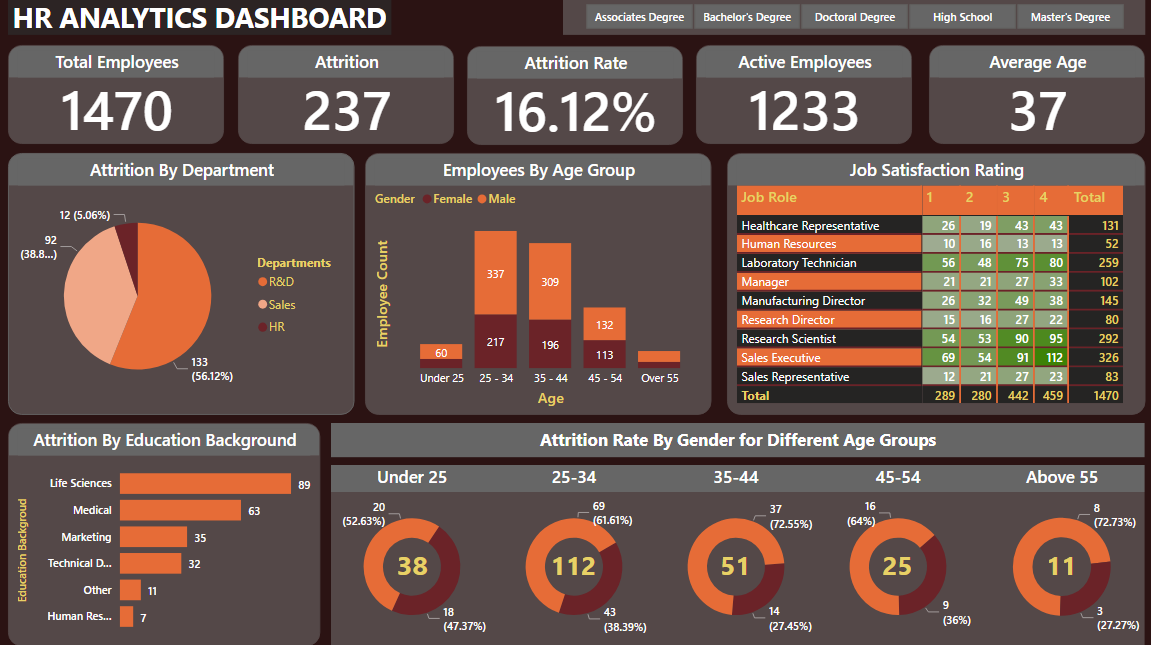

The dashboard page shown, as its layout file describes it:
{"tool":"powerbi","page":{"name":"Page 1","canvas":[1280,720],"ordinal":0},"visuals":[{"type":"card","title":"Total Employees","fields":{"Values":["Sum(HR data.Employee Count)"]},"box":[9.6,52.5,239.9,110.3],"z":0},{"type":"card","title":"Attrition","fields":{"Values":["Sum(HR data.Attrition Count)"]},"box":[265.6,52.2,240,110],"z":1000},{"type":"card","title":"Attrition Rate","fields":{"Values":["HR data.Attrition Rate"]},"box":[520,53.3,240,110],"z":2000},{"type":"card","title":"Active Employees","fields":{"Values":["HR data.Active Employees"]},"box":[774.4,52.2,240,110],"z":3000},{"type":"card","title":"Average Age","fields":{"Values":["Avg(HR data.Age)"]},"box":[1033.6,52.5,239.9,110.3],"z":4000},{"type":"pieChart","title":"Attrition By Department","fields":{"Category":["HR data.Department"],"Y":["Sum(HR data.Attrition Count)"]},"box":[9.6,172.5,384.5,291.3],"z":5000},{"type":"columnChart","title":"Employees By Age Group","fields":{"Category":["HR data.CF_age band"],"Y":["Sum(HR data.Employee Count)"],"Series":["HR data.Gender"]},"box":[407,172.5,384.5,291.3],"z":6000},{"type":"pivotTable","title":"Job Satisfaction Rating","fields":{"Rows":["HR data.Job Role"],"Columns":["HR data.Job Satisfaction"],"Values":["Sum(HR data.Employee Count)"]},"box":[808.7,172.5,464.9,291.3],"z":7000},{"type":"barChart","title":"Attrition By Education Background","fields":{"Category":["HR data.Education Field"],"Y":["Sum(HR data.Attrition Count)"]},"box":[10,472.2,346.7,247.8],"z":8000},{"type":"donutChart","title":"Under 25","fields":{"Category":["HR data.Gender"],"Y":["Sum(HR data.Attrition Count)"],"Series":["HR data.CF_age band"]},"box":[368.9,518.9,180,201.1],"z":9000},{"type":"textbox","box":[368.9,472.2,904.4,37.8],"z":10000},{"type":"donutChart","title":"25-34","fields":{"Category":["HR data.Gender"],"Y":["Sum(HR data.Attrition Count)"],"Series":["HR data.CF_age band"]},"box":[548.9,518.9,180,201.1],"z":11000},{"type":"donutChart","title":"35-44","fields":{"Category":["HR data.Gender"],"Y":["Sum(HR data.Attrition Count)"],"Series":["HR data.CF_age band"]},"box":[728.9,518.9,180,201.1],"z":12000},{"type":"donutChart","title":"45-54","fields":{"Category":["HR data.Gender"],"Y":["Sum(HR data.Attrition Count)"],"Series":["HR data.CF_age band"]},"box":[908.9,518.9,180,201.1],"z":13000},{"type":"donutChart","title":"Above 55","fields":{"Category":["HR data.Gender"],"Y":["Sum(HR data.Attrition Count)"],"Series":["HR data.CF_age band"]},"box":[1088.9,518.9,184.4,201.1],"z":14000},{"type":"card","fields":{"Values":["Sum(HR data.Attrition Count)"]},"box":[435.6,608.9,46.7,43.3],"z":15000},{"type":"card","fields":{"Values":["Sum(HR data.Attrition Count)"]},"box":[603.3,608.9,70,43.3],"z":16000},{"type":"card","fields":{"Values":["Sum(HR data.Attrition Count)"]},"box":[783.3,608.9,70,43.3],"z":17000},{"type":"card","fields":{"Values":["Sum(HR data.Attrition Count)"]},"box":[963.3,608.9,70,43.3],"z":18000},{"type":"card","fields":{"Values":["Sum(HR data.Attrition Count)"]},"box":[1145.6,608.9,70,43.3],"z":19000},{"type":"textbox","title":"HR ANALYTICS DASHBOARD","box":[10,0,425.6,41.1],"z":20000},{"type":"slicer","fields":{"Values":["HR data.Education"]},"box":[626.7,0,646.7,41.1],"z":20001}]}

Visuals, with their boxes in screenshot pixels (x1, y1, x2, y2), scaled from the page's 1280x720 canvas onto the 1151x645 screenshot:
"Total Employees" card: (left=9, top=47, right=224, bottom=146)
"Attrition" card: (left=239, top=47, right=455, bottom=145)
"Attrition Rate" card: (left=468, top=48, right=683, bottom=146)
"Active Employees" card: (left=696, top=47, right=912, bottom=145)
"Average Age" card: (left=929, top=47, right=1145, bottom=146)
"Attrition By Department" pieChart: (left=9, top=155, right=354, bottom=415)
"Employees By Age Group" columnChart: (left=366, top=155, right=712, bottom=415)
"Job Satisfaction Rating" pivotTable: (left=727, top=155, right=1145, bottom=415)
"Attrition By Education Background" barChart: (left=9, top=423, right=321, bottom=644)
"Under 25" donutChart: (left=332, top=465, right=494, bottom=644)
textbox: (left=332, top=423, right=1145, bottom=457)
"25-34" donutChart: (left=494, top=465, right=655, bottom=644)
"35-44" donutChart: (left=655, top=465, right=817, bottom=644)
"45-54" donutChart: (left=817, top=465, right=979, bottom=644)
"Above 55" donutChart: (left=979, top=465, right=1145, bottom=644)
card - Sum(HR data.Attrition Count): (left=392, top=545, right=434, bottom=584)
card - Sum(HR data.Attrition Count): (left=542, top=545, right=605, bottom=584)
card - Sum(HR data.Attrition Count): (left=704, top=545, right=767, bottom=584)
card - Sum(HR data.Attrition Count): (left=866, top=545, right=929, bottom=584)
card - Sum(HR data.Attrition Count): (left=1030, top=545, right=1093, bottom=584)
"HR ANALYTICS DASHBOARD" textbox: (left=9, top=0, right=392, bottom=37)
slicer - HR data.Education: (left=564, top=0, right=1145, bottom=37)
